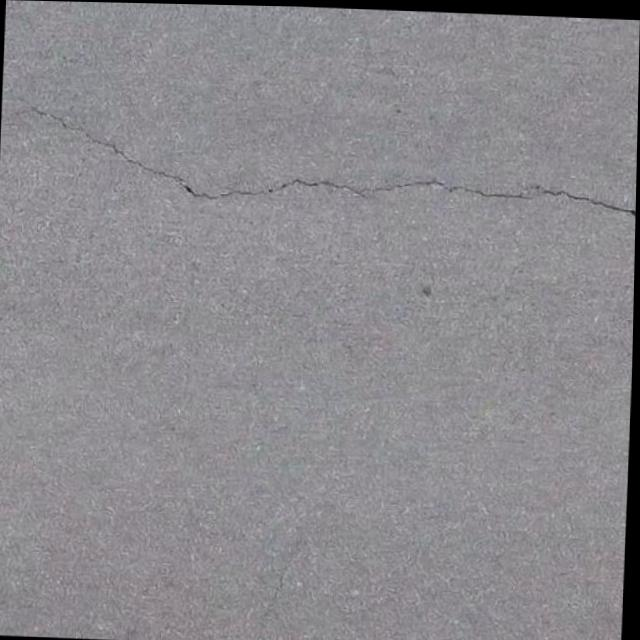Crack: (267, 141, 638, 212)
